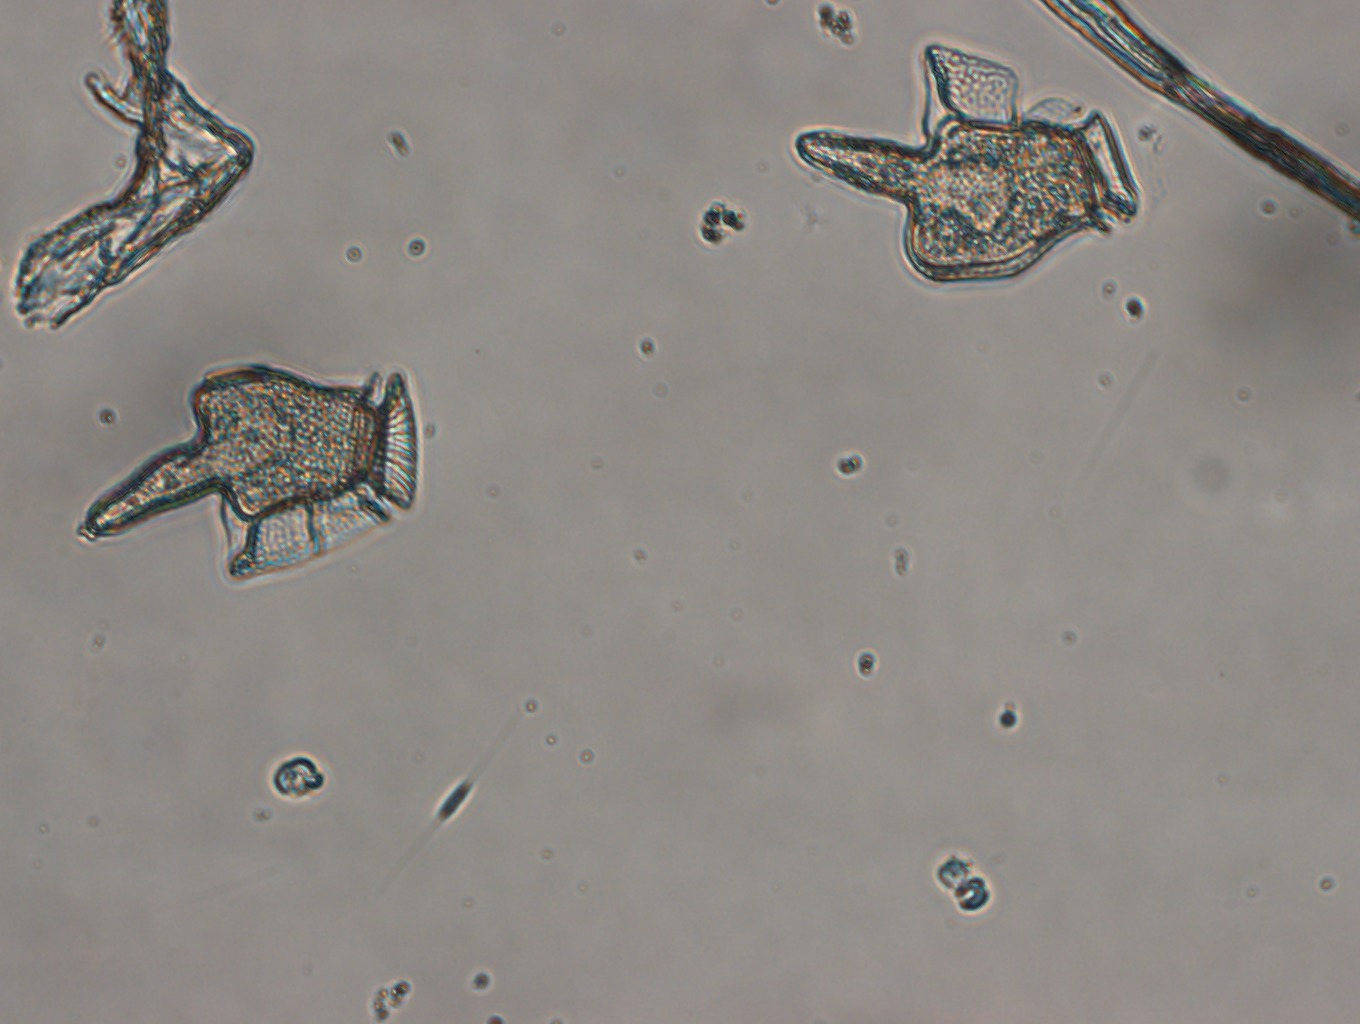dinophysis caudata: (790, 34, 1142, 283), (77, 362, 418, 584)
